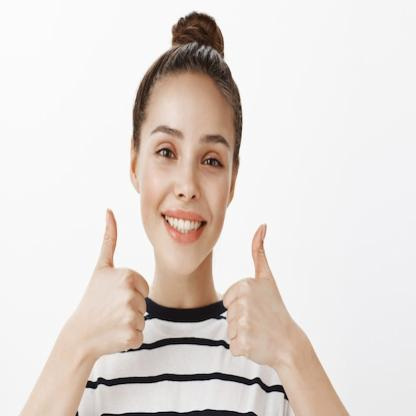thumb_up: (80, 204, 152, 359), (220, 220, 284, 366)
